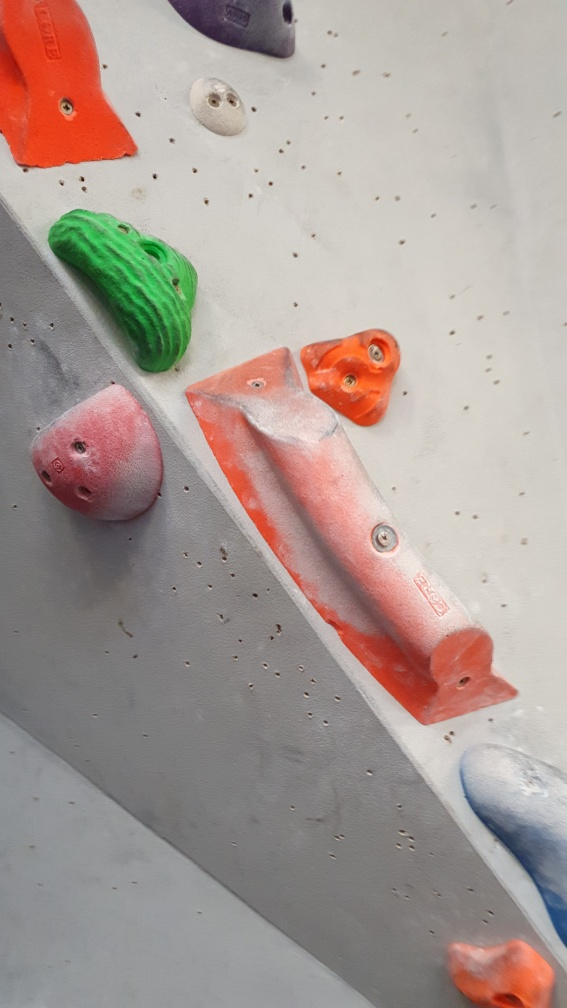Jug: (48, 203, 198, 371)
Pinch: (190, 343, 522, 731), (1, 1, 141, 172)
Sloper: (27, 382, 165, 527)
